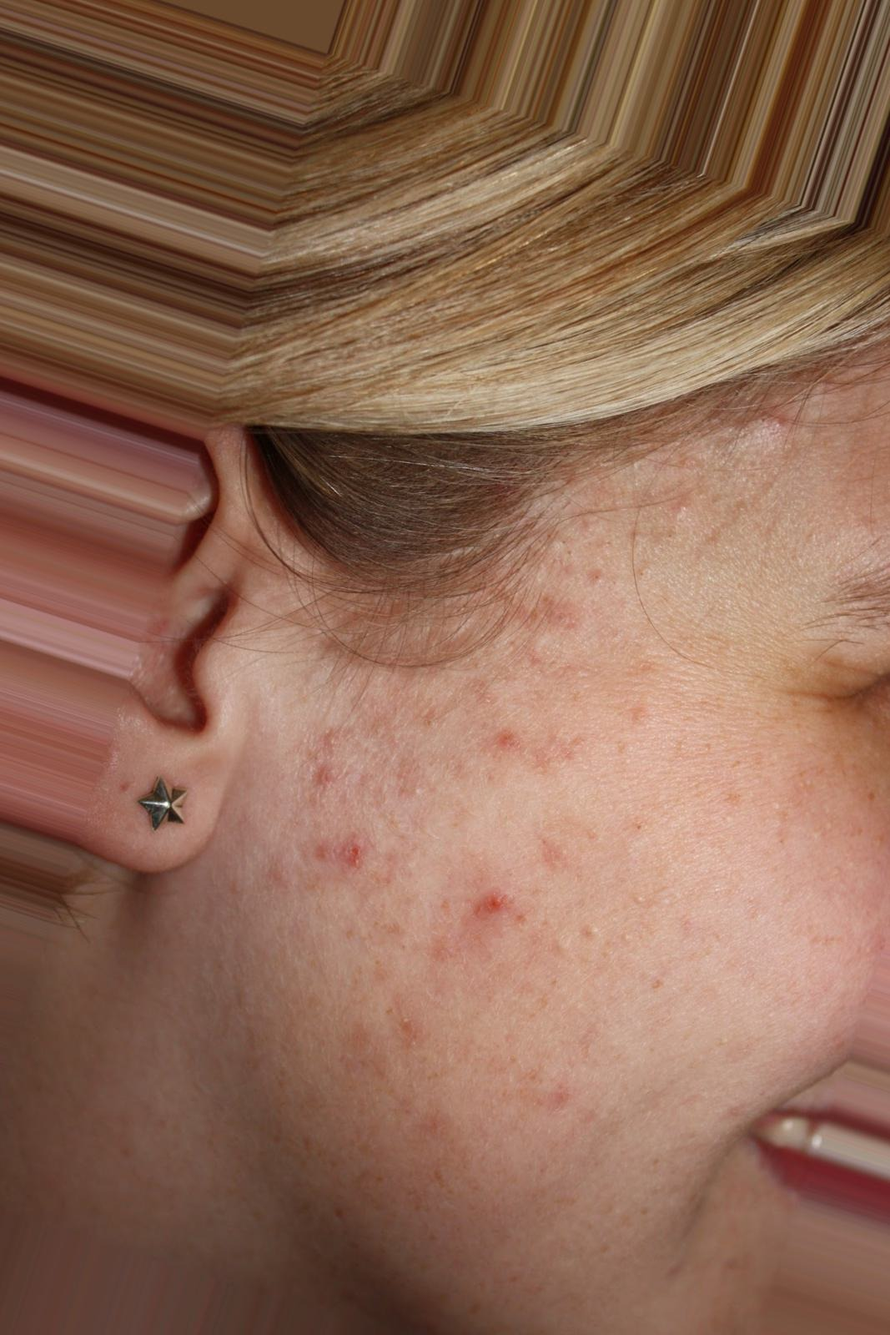Acne: (268, 440, 621, 1080)
